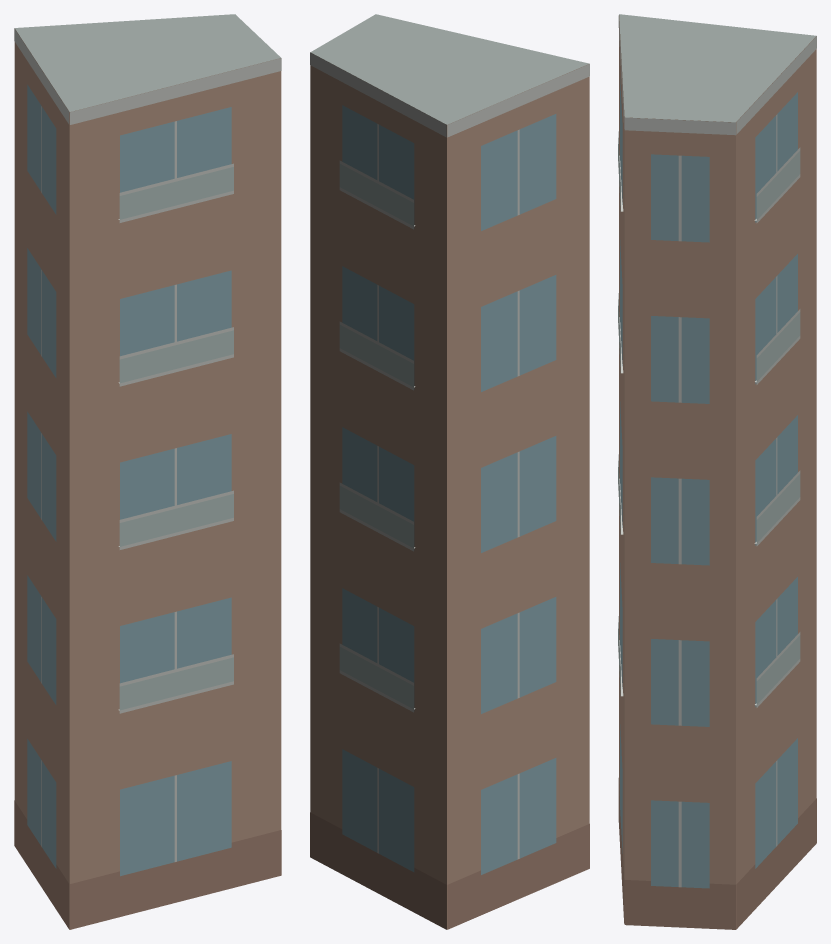
Rendered from survey-upis-33024781.glb.
3 views of the same model, side by side, from view 1: azimuth 30°, elevation 25°; view 2: azimuth 150°, elevation 25°; view 3: azimuth 270°, elevation 25° (orthographic).
Parts seen in each view (by area): view 1: survey-upis-33024781.tmp; view 2: survey-upis-33024781.tmp; view 3: survey-upis-33024781.tmp.
Boxes of the visible parts, x1,y1,x2,y2 form: survey-upis-33024781.tmp: (14,14,281,929); survey-upis-33024781.tmp: (310,14,589,929); survey-upis-33024781.tmp: (618,14,816,929).
Size of the model in its own units: 4.39 by 15.25 by 3.4.
